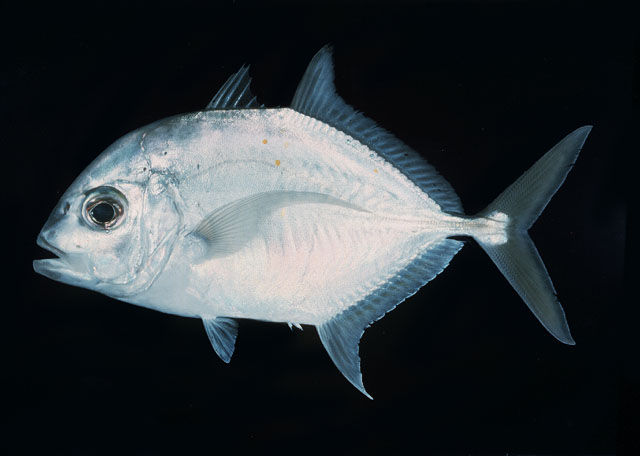fish: (34, 44, 594, 400)
